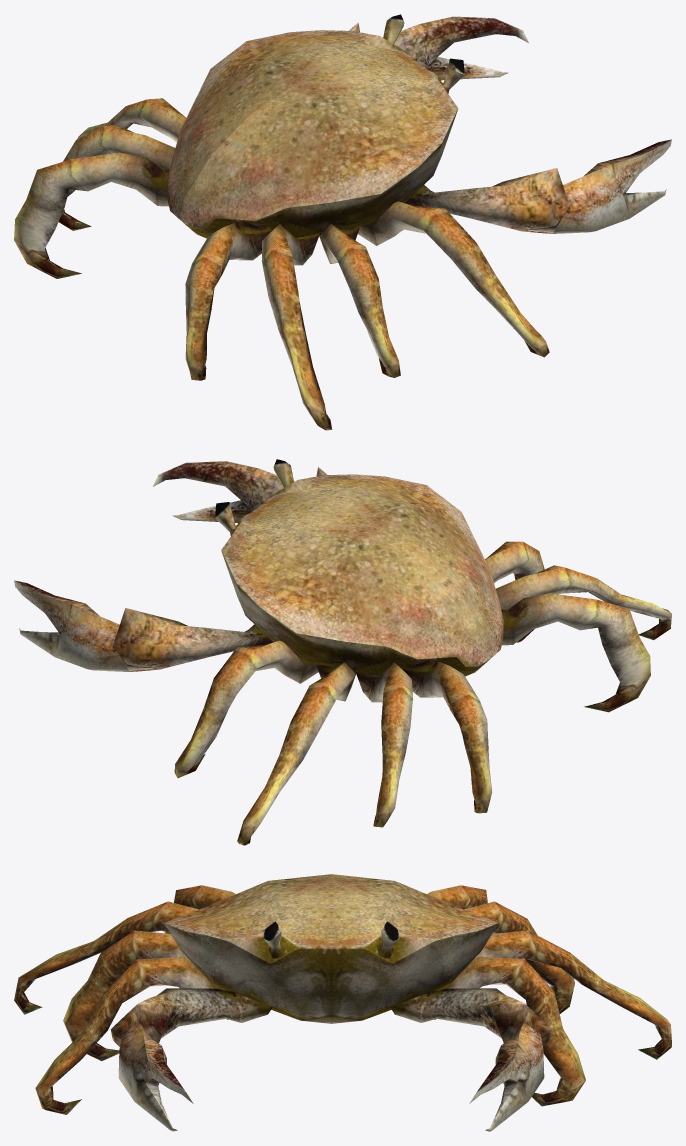
Rendered from crab.glb.
3 views of the same model, one above another, from view 1: azimuth 30°, elevation 25°; view 2: azimuth 150°, elevation 25°; view 3: azimuth 270°, elevation 25° (orthographic). The views are drawn at different scales.
Visible parts, largest first — view 1: crab; view 2: crab; view 3: crab.
Part boxes in pixels (bbox=[...]): crab: bbox=[14, 14, 671, 430]; crab: bbox=[14, 459, 671, 845]; crab: bbox=[14, 874, 671, 1131].
Size of the model in its own units: 0.5132 by 0.2141 by 0.6.
Materials: 1 (1 with a texture image).
